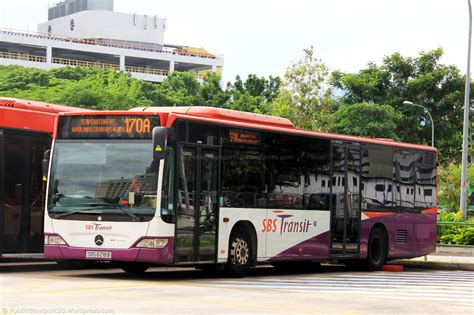bus: (46, 110, 437, 275)
